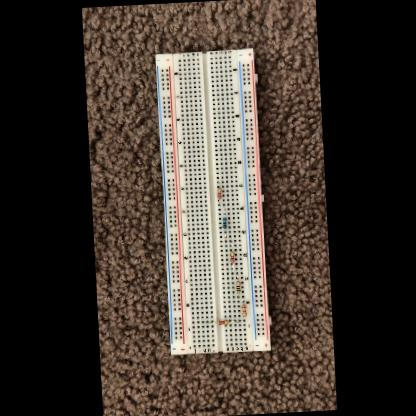breadboard: (153, 46, 272, 354)
resistor: (234, 280, 240, 291), (216, 319, 228, 324), (228, 250, 233, 262), (216, 187, 221, 198), (240, 304, 245, 315), (221, 216, 226, 226)
wire: (201, 320, 215, 323), (228, 318, 238, 322), (228, 240, 232, 250), (222, 202, 224, 216), (230, 262, 232, 272), (223, 226, 224, 240), (216, 180, 218, 186), (242, 316, 244, 320), (242, 294, 243, 302), (235, 272, 236, 280), (217, 198, 218, 205), (236, 292, 237, 297)
